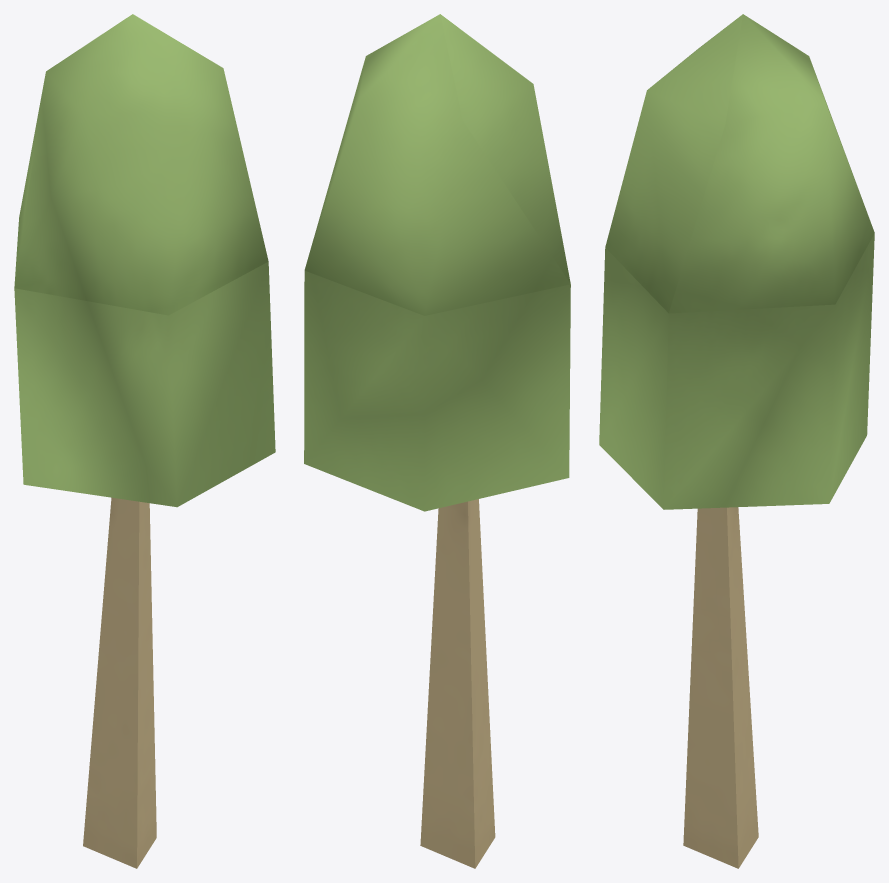
3 renders of one model, left to right at view 1: azimuth 30°, elevation 25°; view 2: azimuth 150°, elevation 25°; view 3: azimuth 270°, elevation 25°, orthographic. The views are drawn at different scales.
Parts seen in each view (by area): view 1: LOD2Sosna2.001; view 2: LOD2Sosna2.001; view 3: LOD2Sosna2.001.
Part boxes in pixels (bbox=[...]): LOD2Sosna2.001: bbox=[14, 14, 275, 868]; LOD2Sosna2.001: bbox=[304, 14, 570, 868]; LOD2Sosna2.001: bbox=[599, 14, 874, 868].
Size of the model in its own units: 5.9 by 20.51 by 6.07.
1 material, 1 textured.
